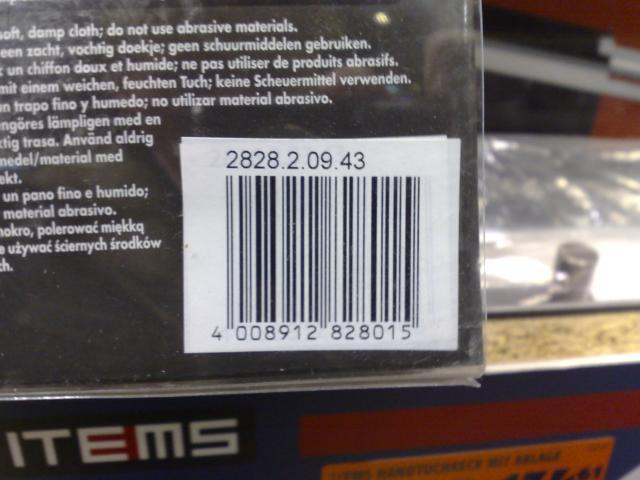Barcode: (195, 169, 430, 348)
